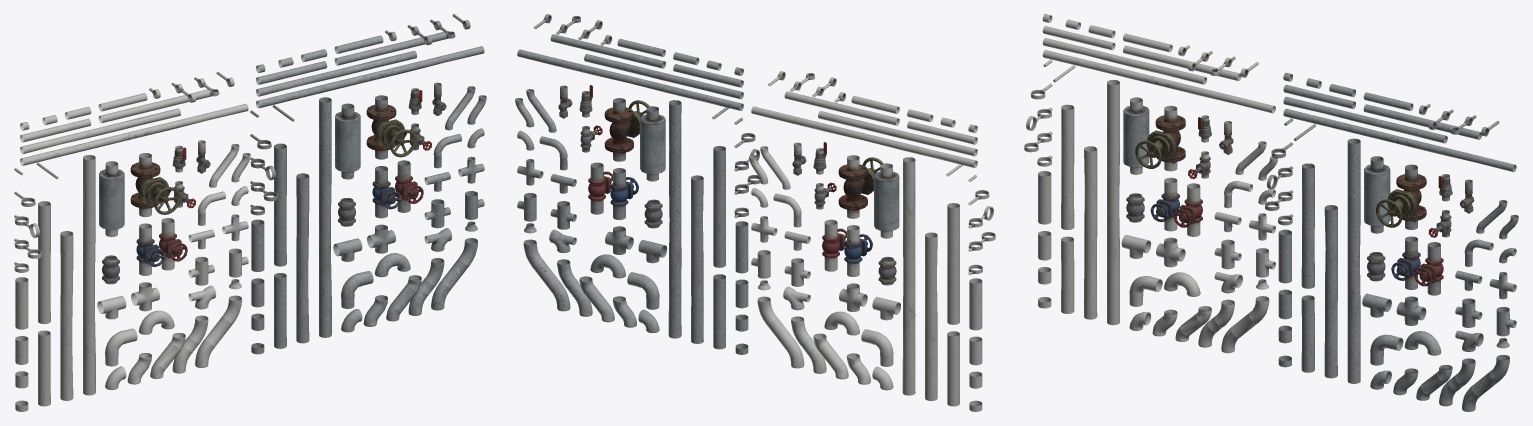
File: modular_pipes.glb
3 renders of one model, left to right at view 1: azimuth 30°, elevation 25°; view 2: azimuth 150°, elevation 25°; view 3: azimuth 330°, elevation 25°, orthographic. The views are drawn at different scales.
Visible parts, largest first — view 1: pipe_200cm_pvc, pipe_200cm_metal, pipe_140cm_metal, pipe_140cm_pvc, pipe_thin_200cm_pvc, pipe_thin_200cm_metal, pipe_valve_large_metal, pipe_valve_large_pvc, pipe_chamber_large_pvc, pipe_chamber_large_metal, pipe_100cm_metal, pipe_100cm_pvc (+35 smaller); view 2: pipe_200cm_pvc, pipe_200cm_metal, pipe_140cm_metal, pipe_140cm_pvc, pipe_thin_200cm_pvc, pipe_thin_200cm_metal, pipe_chamber_large_pvc, pipe_chamber_large_metal, pipe_valve_large_pvc, pipe_valve_large_metal, pipe_100cm_pvc, pipe_100cm_metal (+34 smaller); view 3: pipe_200cm_metal, pipe_200cm_pvc, pipe_140cm_pvc, pipe_140cm_metal, pipe_thin_200cm_metal, pipe_thin_200cm_pvc, pipe_valve_large_pvc, pipe_valve_large_metal, pipe_100cm_pvc, pipe_chamber_large_metal, pipe_100cm_metal, pipe_chamber_large_pvc (+33 smaller).
Boxes of the visible parts, box(x1,y1,x2,y2) form: pipe_200cm_pvc: box(83, 155, 95, 395); pipe_200cm_metal: box(319, 97, 331, 337); pipe_140cm_metal: box(296, 173, 309, 343); pipe_140cm_pvc: box(60, 231, 73, 400); pipe_thin_200cm_pvc: box(20, 103, 248, 165); pipe_thin_200cm_metal: box(256, 46, 484, 108); pipe_valve_large_metal: box(366, 95, 416, 159); pipe_valve_large_pvc: box(130, 153, 180, 217); pipe_chamber_large_pvc: box(99, 161, 124, 236); pipe_chamber_large_metal: box(335, 103, 360, 179); pipe_100cm_metal: box(274, 143, 286, 266); pipe_100cm_pvc: box(38, 201, 50, 323); pipe_200cm_pvc: box(902, 157, 915, 395); pipe_200cm_metal: box(668, 100, 681, 338); pipe_140cm_metal: box(691, 175, 703, 343); pipe_140cm_pvc: box(925, 232, 937, 400); pipe_thin_200cm_pvc: box(751, 106, 977, 167); pipe_thin_200cm_metal: box(517, 49, 743, 110); pipe_chamber_large_pvc: box(874, 163, 899, 238); pipe_chamber_large_metal: box(640, 106, 665, 181); pipe_valve_large_pvc: box(838, 155, 883, 218); pipe_valve_large_metal: box(604, 98, 649, 161); pipe_100cm_pvc: box(947, 203, 959, 324); pipe_100cm_metal: box(713, 146, 725, 267); pipe_200cm_metal: box(1347, 138, 1360, 383); pipe_200cm_pvc: box(1107, 80, 1119, 325); pipe_140cm_pvc: box(1084, 146, 1097, 319); pipe_140cm_metal: box(1324, 205, 1337, 378); pipe_thin_200cm_metal: box(1283, 108, 1516, 172); pipe_thin_200cm_pvc: box(1042, 50, 1275, 113); pipe_valve_large_pvc: box(1135, 105, 1185, 171); pipe_valve_large_metal: box(1376, 164, 1426, 229); pipe_100cm_pvc: box(1061, 104, 1074, 229); pipe_chamber_large_metal: box(1364, 156, 1390, 233); pipe_100cm_metal: box(1301, 163, 1314, 288); pipe_chamber_large_pvc: box(1123, 97, 1149, 174).
Bounding box in the file's own units: 4.19 × 2.43 × 0.4578.
2 materials, 2 textured.
